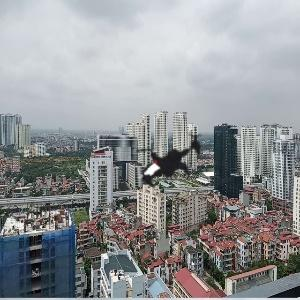drone: (113, 99, 227, 213)
